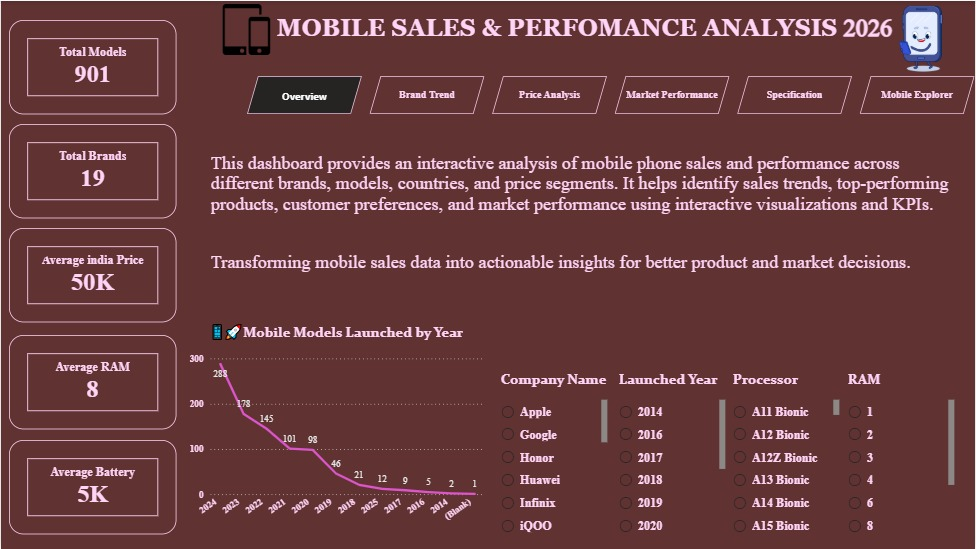

The dashboard page shown, as its layout file describes it:
{"tool":"powerbi","page":{"name":"Overview","canvas":[1280,720],"ordinal":0},"visuals":[{"type":"group","id":"g1","title":"Header","box":[357.5,0,922.5,98.7],"z":0},{"type":"textbox","box":[357.5,9.6,875.4,57.8],"z":0,"group":"g1"},{"type":"cardVisual","fields":{"Data":["Mobiles Dataset (2026).Total Models"]},"box":[10,24.3,220.2,124.4],"z":0,"group":"g2"},{"type":"image","box":[1137.9,0,141.8,99.1],"z":1000,"group":"g1"},{"type":"pageNavigator","box":[323.2,98.7,956.8,50.1],"z":1000},{"type":"cardVisual","fields":{"Data":["Mobiles Dataset (2026).Average India Price"]},"box":[10,297.5,220.2,124.4],"z":1000,"group":"g2"},{"type":"lineChart","title":"📱🚀Mobile Models Launched by Year","fields":{"Category":["Mobiles Dataset (2026).Launched Year"],"Y":["Mobiles Dataset (2026).Total Models"]},"box":[243.6,421.2,396.4,279.4],"z":2000},{"type":"cardVisual","fields":{"Data":["Mobiles Dataset (2026).Average RAM"]},"box":[10,437.6,220.2,124.4],"z":2000,"group":"g2"},{"type":"listSlicer","fields":{"Values":["Mobiles Dataset (2026).Company Name"]},"box":[652.2,484.8,150.2,218.8],"z":3000},{"type":"cardVisual","fields":{"Data":["Mobiles Dataset (2026).Average Battery"]},"box":[10,576.3,220.2,124.4],"z":3000,"group":"g2"},{"type":"cardVisual","fields":{"Data":["Mobiles Dataset (2026).Total Brands"]},"box":[10,161.6,220.2,124.4],"z":4000,"group":"g2"},{"type":"listSlicer","fields":{"Values":["Mobiles Dataset (2026).Launched Year"]},"box":[806.6,484.8,150.2,218.8],"z":4000},{"type":"listSlicer","fields":{"Values":["Mobiles Dataset (2026).Processor"]},"box":[956.8,484.8,150.2,218.8],"z":5000},{"type":"listSlicer","fields":{"Values":["Mobiles Dataset (2026).RAM"]},"box":[1106.9,484.8,150.2,218.8],"z":6000},{"type":"group","id":"g2","title":"KPIs","box":[10,24.3,220.2,676.5],"z":7000},{"type":"textbox","box":[271.1,194.1,985.5,115.6],"z":8000},{"type":"textbox","box":[271.1,324.8,985.5,70.2],"z":9000},{"type":"image","box":[265.6,4,114.2,67.4],"z":10000}]}

Visuals, with their boxes in screenshot pixels (x1, y1, x2, y2), scaled from the page's 1280x720 canvas onto the 976x549 screenshot:
"Header" group: pyautogui.locateOnScreen(273, 0, 975, 75)
textbox: pyautogui.locateOnScreen(273, 7, 940, 51)
cardVisual - Mobiles Dataset (2026).Total Models: pyautogui.locateOnScreen(8, 19, 176, 113)
image: pyautogui.locateOnScreen(868, 0, 975, 76)
pageNavigator: pyautogui.locateOnScreen(246, 75, 975, 113)
cardVisual - Mobiles Dataset (2026).Average India Price: pyautogui.locateOnScreen(8, 227, 176, 322)
"📱🚀Mobile Models Launched by Year" lineChart: pyautogui.locateOnScreen(186, 321, 488, 534)
cardVisual - Mobiles Dataset (2026).Average RAM: pyautogui.locateOnScreen(8, 334, 176, 429)
listSlicer - Mobiles Dataset (2026).Company Name: pyautogui.locateOnScreen(497, 370, 612, 536)
cardVisual - Mobiles Dataset (2026).Average Battery: pyautogui.locateOnScreen(8, 439, 176, 534)
cardVisual - Mobiles Dataset (2026).Total Brands: pyautogui.locateOnScreen(8, 123, 176, 218)
listSlicer - Mobiles Dataset (2026).Launched Year: pyautogui.locateOnScreen(615, 370, 730, 536)
listSlicer - Mobiles Dataset (2026).Processor: pyautogui.locateOnScreen(730, 370, 844, 536)
listSlicer - Mobiles Dataset (2026).RAM: pyautogui.locateOnScreen(844, 370, 959, 536)
"KPIs" group: pyautogui.locateOnScreen(8, 19, 176, 534)
textbox: pyautogui.locateOnScreen(207, 148, 958, 236)
textbox: pyautogui.locateOnScreen(207, 248, 958, 301)
image: pyautogui.locateOnScreen(203, 3, 290, 54)
